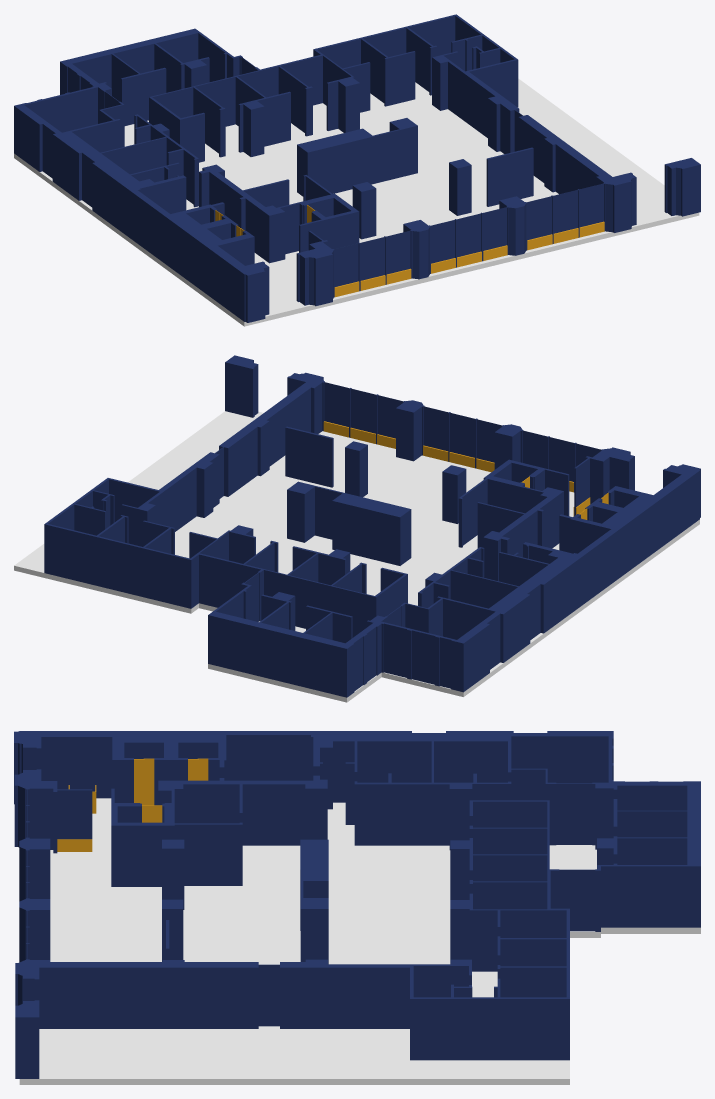
File: 16W 1st Floor.fbx
3 views of the same model, one above another, from view 1: azimuth 30°, elevation 25°; view 2: azimuth 150°, elevation 25°; view 3: azimuth 270°, elevation 25° (orthographic). The views are drawn at different scales.
Visible parts, largest first — view 1: Walls, Object_1, Interior Member; view 2: Walls, Object_1, Interior Member; view 3: Walls, Object_1, Interior Member.
Part boxes in pixels (x1,y1,x2,y2): Walls: (14, 14, 700, 322); Object_1: (14, 78, 699, 326); Interior Member: (215, 205, 604, 297); Walls: (44, 355, 700, 697); Object_1: (14, 411, 699, 702); Interior Member: (323, 421, 608, 519); Walls: (14, 731, 700, 1078); Object_1: (19, 798, 700, 1084); Interior Member: (57, 758, 208, 851).
Bounding box in the file's own units: 1201 × 1218 × 132.
